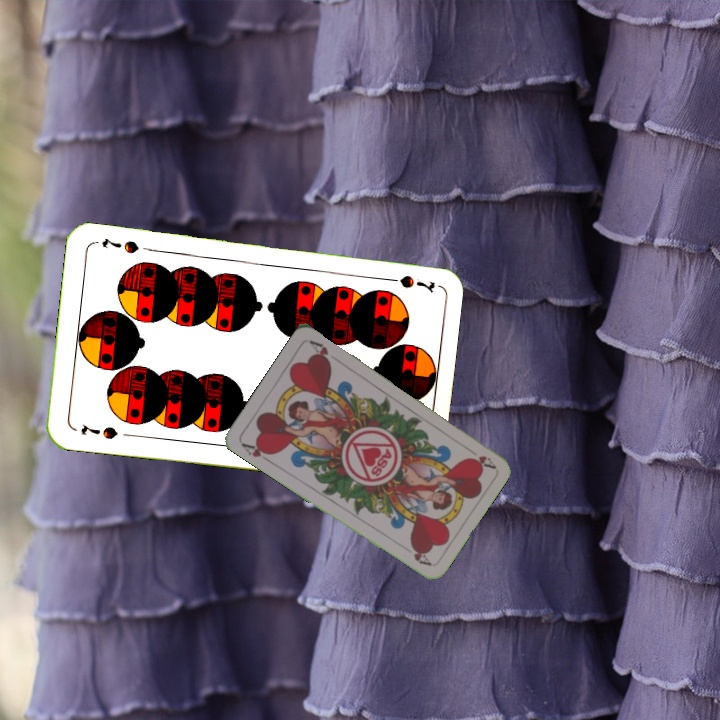HA: (237, 438, 275, 465), (466, 451, 497, 471)
S7: (378, 271, 437, 295), (77, 420, 120, 442)
